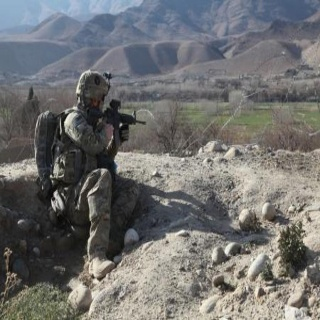rifle: (86, 99, 149, 147)
